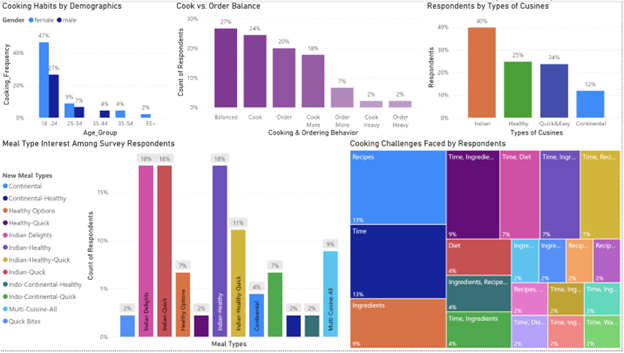

The page's visual inventory and layout, read from the dashboard file:
{"tool":"powerbi","page":{"name":"Cooking Interest & Food Ordering Habits","canvas":[1280,720],"ordinal":0},"visuals":[{"type":"clusteredColumnChart","title":"Cook vs. Order Balance","fields":{"Category":["Form_Responses1.New Cook Order Balance"],"Y":["Sum(Form_Responses1.Respondents)"]},"box":[358,0,519.1,284],"z":1000},{"type":"treemap","title":"Cooking Challenges Faced by Respondents","fields":{"Values":["CountNonNull(Form_Responses1.Respondents)"],"Group":["Form_Responses1.New Cooking Challenges"]},"box":[716,284,566.7,437.2],"z":2000},{"type":"clusteredColumnChart","fields":{"Category":["Table.Types of Cusines"],"Y":["Sum(Table.Intrested respondents)"]},"box":[874.5,0,406.9,284],"z":3000},{"type":"columnChart","title":"Meal Type Interest Among Survey Respondents","fields":{"Y":["CountNonNull(Form_Responses1.Respondents)"],"Category":["Form_Responses1.Cooks_Continental","Form_Responses1.Cooks_Healthy_Diet","Form_Responses1.Cooks_Indian","Form_Responses1.Cooks_Quick_Easy"],"Series":["Form_Responses1.New Meal Types"]},"box":[0,284,716,435.9],"z":4000},{"type":"clusteredColumnChart","title":"Cooking Habits by Demographics","fields":{"Category":["Form_Responses1.Age_Group"],"Y":["CountNonNull(Form_Responses1.Cooking_Frequency_Ordinal)"],"Series":["Form_Responses1.Gender"]},"box":[0,0,358,284],"z":5000}]}

Visuals, with their boxes in screenshot pixels (x1, y1, x2, y2), scaled from the page's 1280x720 canvas onto the 624x353 screenshot:
"Cook vs. Order Balance" clusteredColumnChart: box=[175, 0, 428, 139]
"Cooking Challenges Faced by Respondents" treemap: box=[349, 139, 623, 352]
clusteredColumnChart - Table.Types of Cusines x Sum(Table.Intrested respondents): box=[426, 0, 623, 139]
"Meal Type Interest Among Survey Respondents" columnChart: box=[0, 139, 349, 352]
"Cooking Habits by Demographics" clusteredColumnChart: box=[0, 0, 175, 139]
